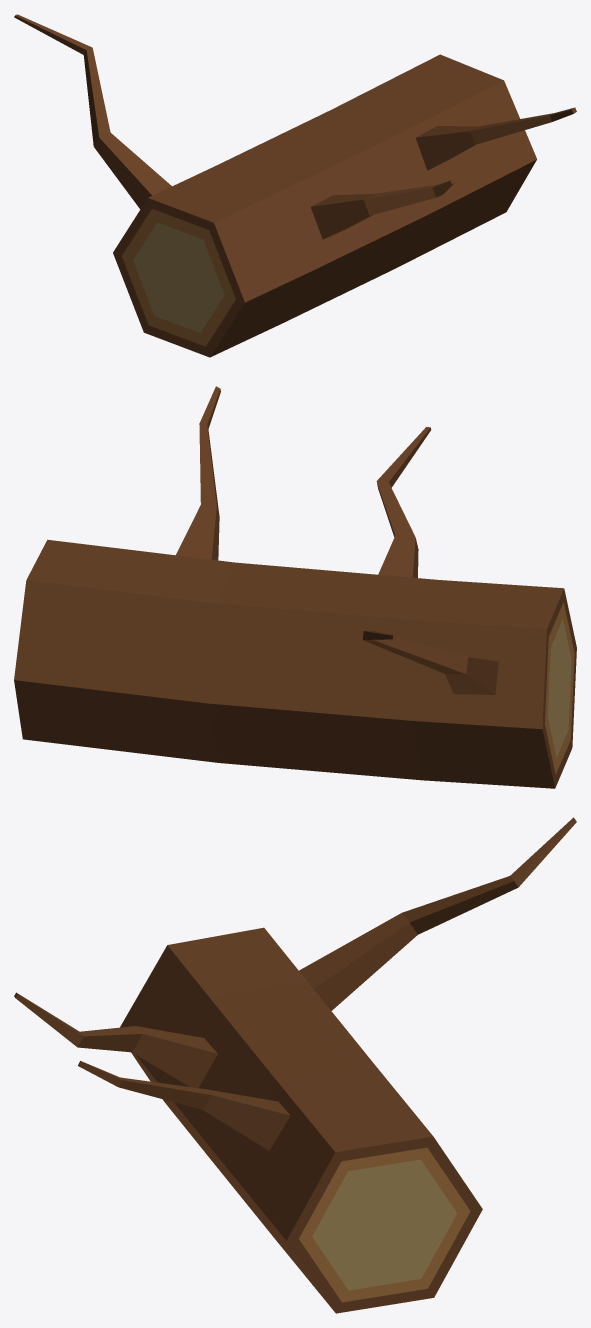
The model's file is Log.fbx.
3 renders of one model, top to bottom at view 1: azimuth 30°, elevation 25°; view 2: azimuth 150°, elevation 25°; view 3: azimuth 270°, elevation 25°, orthographic. The views are drawn at different scales.
Visible parts, largest first — view 1: Cylinder.003; view 2: Cylinder.003; view 3: Cylinder.003.
Part boxes in pixels (box(x1,y1,x2,y2)): Cylinder.003: box(14, 14, 576, 357); Cylinder.003: box(14, 386, 576, 788); Cylinder.003: box(14, 817, 576, 1313).
Size of the model in its own units: 58.74 by 30.55 by 57.4.
